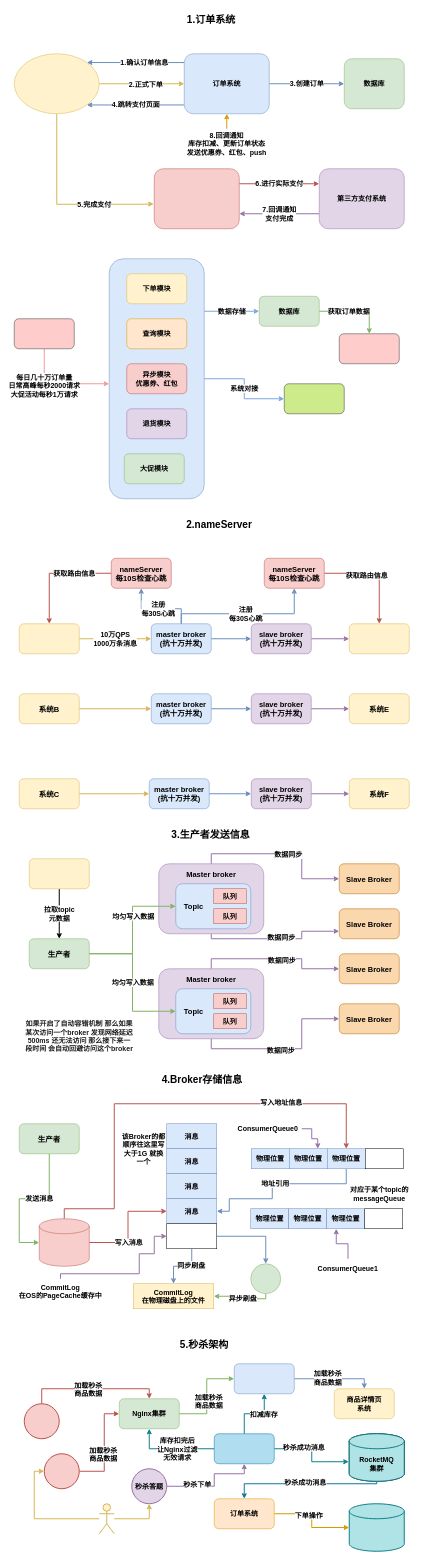
The diagram is 422 pixels wide and 1560 high, and some of its shapes have lost their labels. Here are the shapes that lost their labels. From the top down, the centre of each, then its label:
At point 56,83: "用户".
At point 196,198: "支付系统".
At point 44,333: "百万日活用户".
At point 369,348: "大数据团队等".
At point 314,398: "第三方物流系统".
At point 49,638: "系统A".
At point 379,638: "系统D".
At point 59,873: "nameServer".
At point 64,1242: "Broker".
At point 265,1278: "OS线程".
At point 264,1378: "redis集群".
At point 42,1421: "上海CDN".
At point 244,1448: "秒杀系统".
At point 62,1471: "广州CDN".
At point 106,1518: "大量的用户".
At point 376,1527: "订单数据库".
